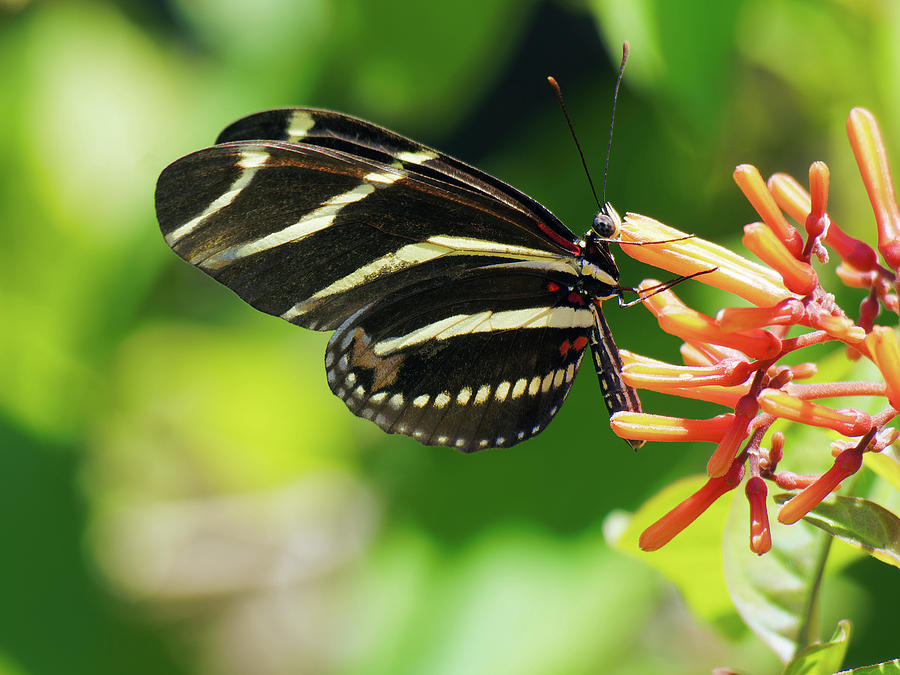kelebek: (165, 68, 727, 459)
